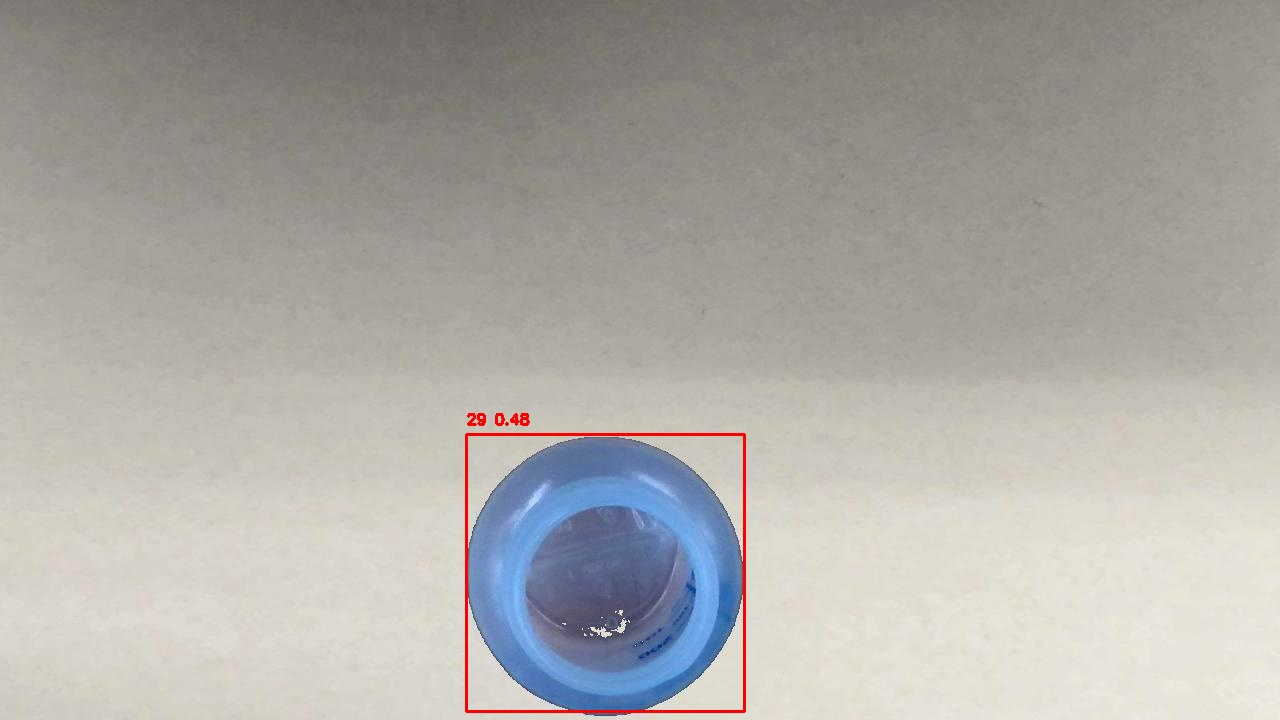cup: (466, 434, 744, 711)
